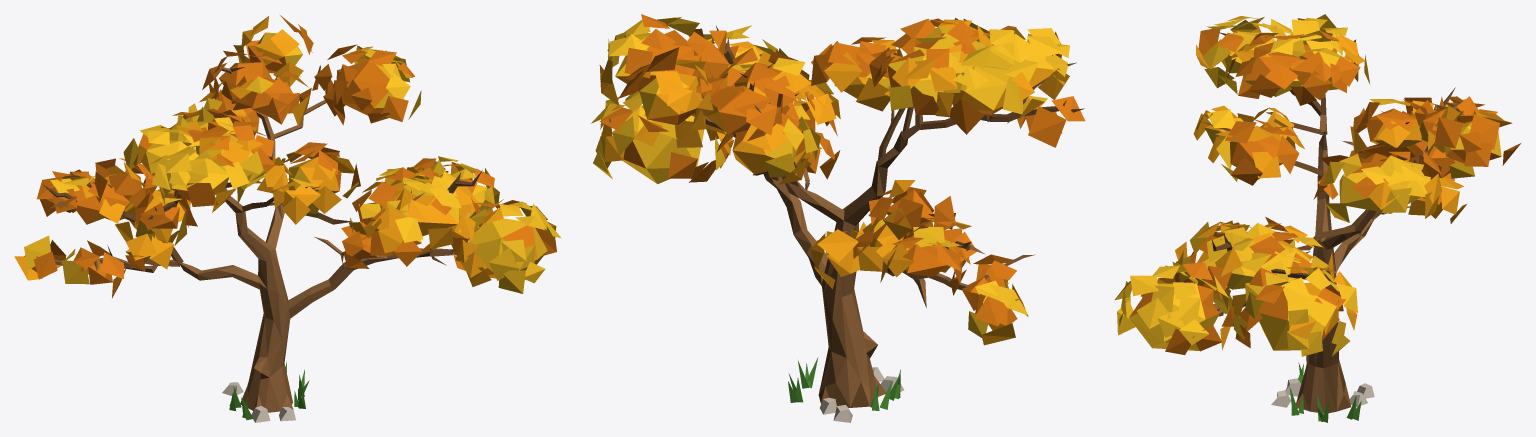
File: guayacan_3_autumn.glb
3 renders of one model, left to right at view 1: azimuth 30°, elevation 25°; view 2: azimuth 150°, elevation 25°; view 3: azimuth 270°, elevation 25°, orthographic. The views are drawn at different scales.
Visible parts, largest first — view 1: guayacan_3_autumn; view 2: guayacan_3_autumn; view 3: guayacan_3_autumn.
Boxes of the visible parts, bbox=[...] form: guayacan_3_autumn: bbox=[14, 14, 561, 422]; guayacan_3_autumn: bbox=[591, 14, 1085, 422]; guayacan_3_autumn: bbox=[1114, 14, 1520, 422].
Size of the model in its own units: 8.77 by 6.35 by 6.99.
